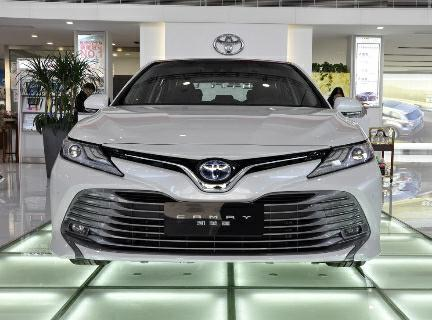丰田-凯美瑞: (49, 60, 384, 269)
